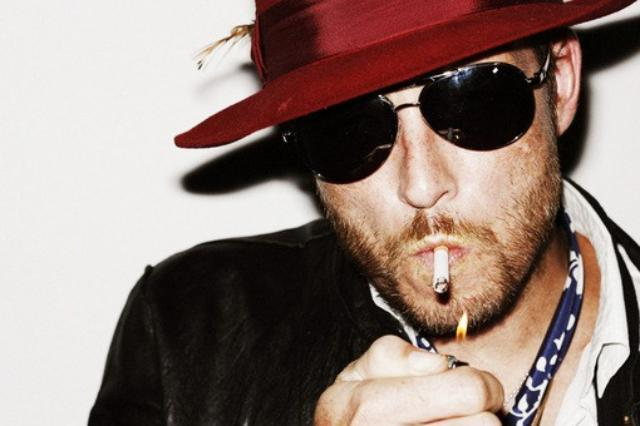Smoking: (430, 243, 452, 298)
